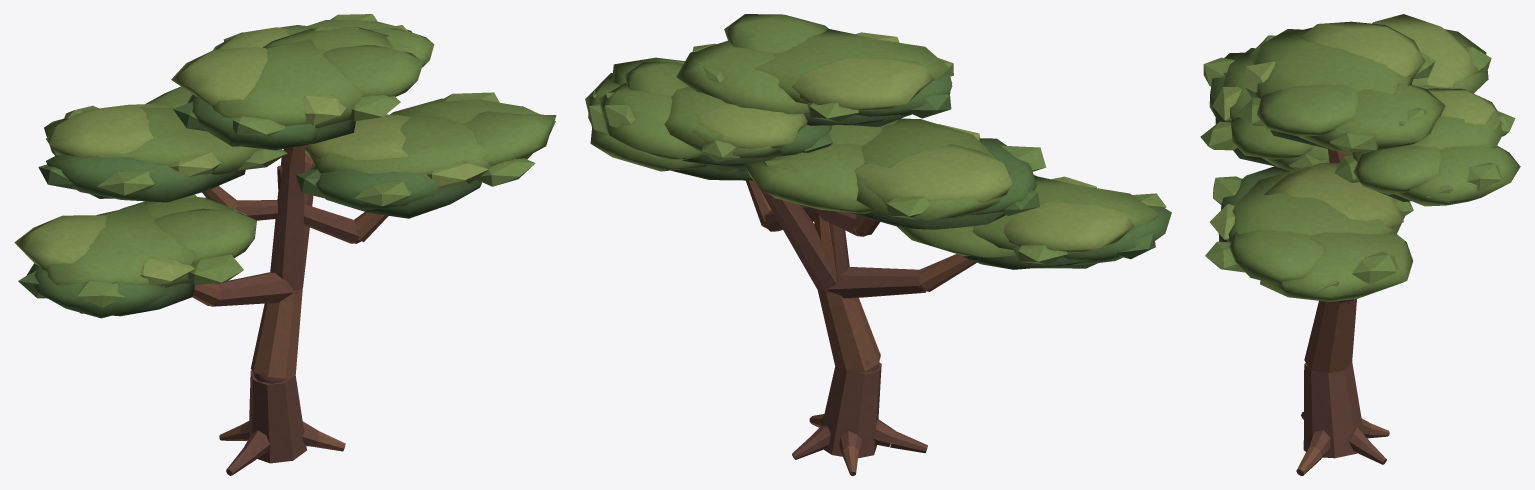
Rendered from Grand_Dojo_Pine.glb.
3 views of the same model, side by side, from view 1: azimuth 30°, elevation 25°; view 2: azimuth 150°, elevation 25°; view 3: azimuth 270°, elevation 25° (orthographic). The views are drawn at different scales.
Visible parts, largest first — view 1: Grand Dojo Pine; view 2: Grand Dojo Pine; view 3: Grand Dojo Pine.
Part boxes in pixels (x1,y1,x2,y2): Grand Dojo Pine: [14, 14, 556, 475]; Grand Dojo Pine: [585, 14, 1171, 475]; Grand Dojo Pine: [1200, 14, 1520, 475].
Size of the model in its own units: 14.83 by 10.29 by 7.47.
Materials: 1 (1 with a texture image).
